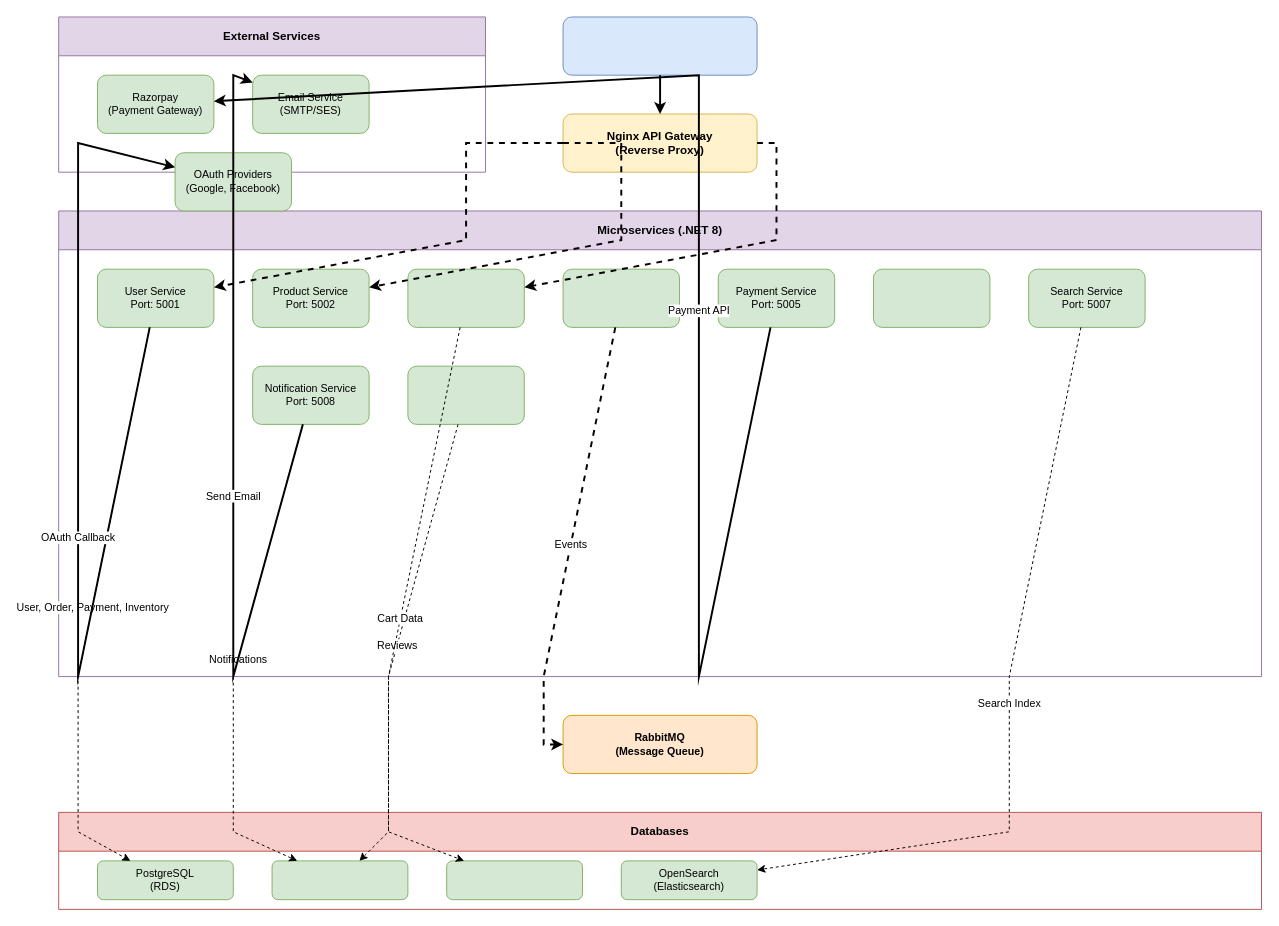
This 1279x926 diagram has some shape labels left out. The shapes that lost their labels are listed below. From the top down, each one's centre as x and y in pixels, then its label:
At pixel 659 45: "Nuxt.js 3 Frontend".
At pixel 465 297: "Cart Service Port: 5003".
At pixel 620 297: "Order Service Port: 5004".
At pixel 931 297: "Inventory Service Port: 5006".
At pixel 465 394: "Review Service Port: 5009".
At pixel 339 880: "MongoDB (DocumentDB)".
At pixel 514 880: "Redis (ElastiCache)".
